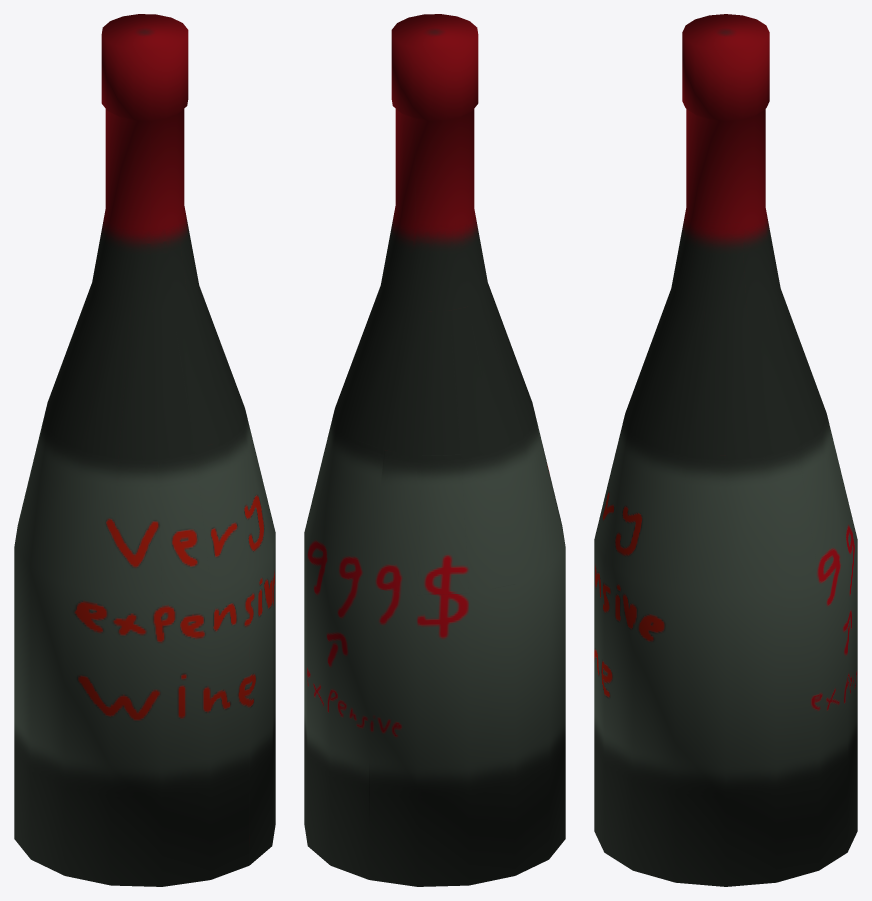
The model's file is wine4.fbx.
The picture shows the model from 3 angles, left to right: view 1: azimuth 30°, elevation 25°; view 2: azimuth 150°, elevation 25°; view 3: azimuth 270°, elevation 25°; orthographic projection.
Visible parts, largest first — view 1: wine4low; view 2: wine4low; view 3: wine4low.
Boxes of the visible parts, x1,y1,x2,y2 form: wine4low: (14, 14, 275, 886); wine4low: (304, 14, 565, 886); wine4low: (594, 14, 857, 886).
Bounding box in the file's own units: 0.0852 × 0.0852 × 0.2854.
Materials: 1 (1 with a texture image).
